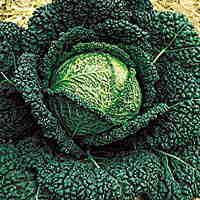cabbage: (44, 49, 144, 140)
